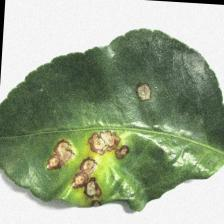canker: (44, 77, 164, 208)
